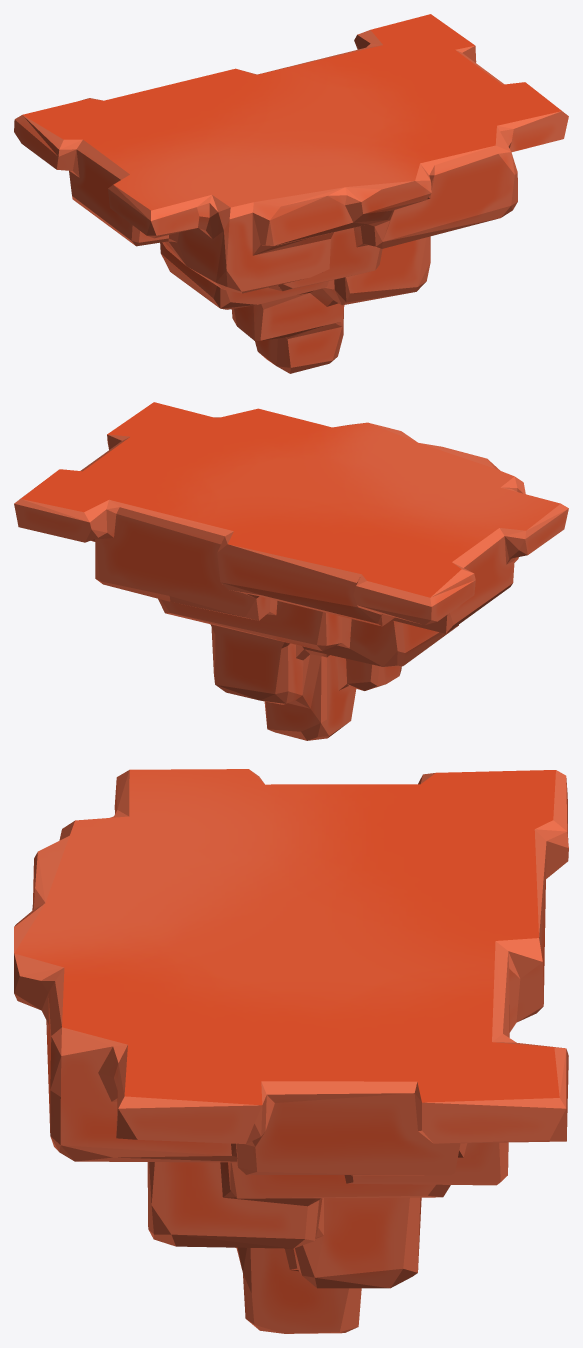
Rendered from Platform_Main.fbx.
3 renders of one model, top to bottom at view 1: azimuth 30°, elevation 25°; view 2: azimuth 150°, elevation 25°; view 3: azimuth 270°, elevation 25°, orthographic. The views are drawn at different scales.
Parts seen in each view (by area): view 1: Cube.044; view 2: Cube.044; view 3: Cube.044.
Boxes of the visible parts, x1=… form: Cube.044: x1=14, y1=14, x2=568, y2=373; Cube.044: x1=14, y1=402, x2=568, y2=740; Cube.044: x1=14, y1=769, x2=568, y2=1333.
Bounding box in the file's own units: 699 × 376 × 487.
